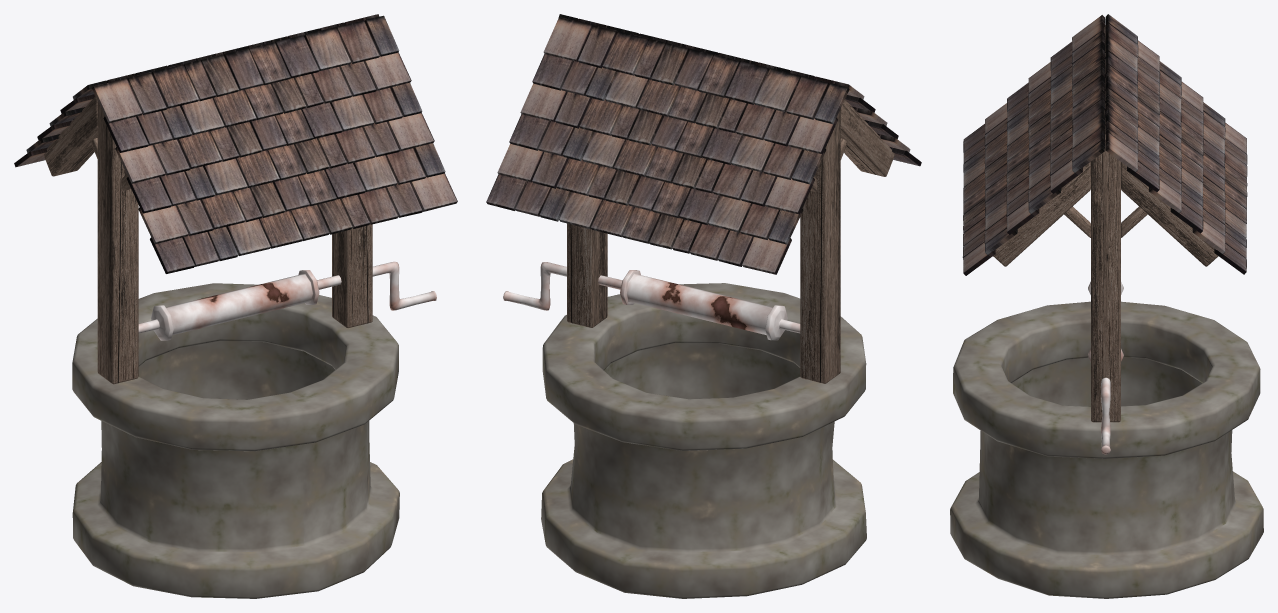
File: WaterWell.fbx
3 views of the same model, side by side, from view 1: azimuth 30°, elevation 25°; view 2: azimuth 150°, elevation 25°; view 3: azimuth 270°, elevation 25° (orthographic). The views are drawn at different scales.
Parts seen in each view (by area): view 1: Cylinder.002; view 2: Cylinder.002; view 3: Cylinder.002.
Part boxes in pixels (bbox=[...]): Cylinder.002: bbox=[14, 14, 457, 598]; Cylinder.002: bbox=[486, 14, 921, 598]; Cylinder.002: bbox=[950, 14, 1263, 598].
Bounding box in the file's own units: 1.45 × 1.94 × 1.21.
